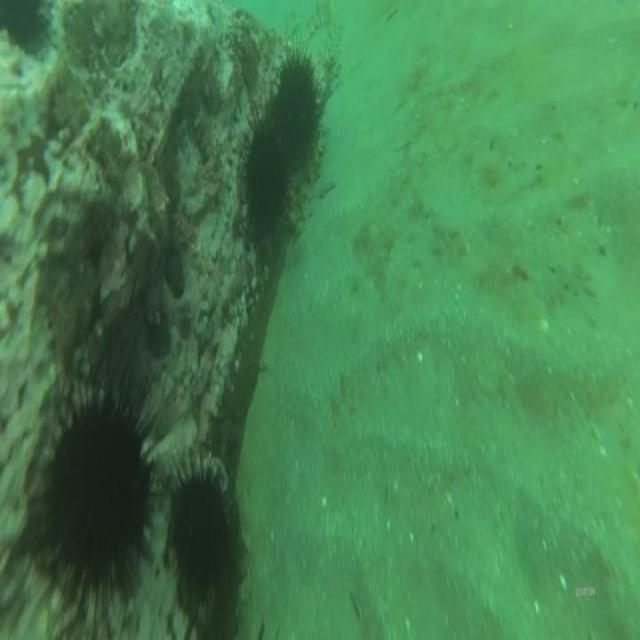echinus: (28, 393, 148, 628), (163, 433, 248, 615), (234, 91, 295, 252), (269, 32, 328, 191)
